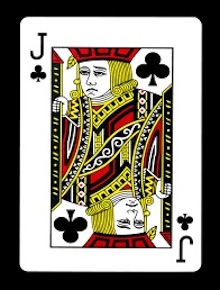JackOfClubs: (17, 13, 209, 280)
